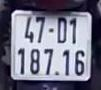1: (16, 45, 28, 77), (69, 15, 78, 46), (61, 47, 70, 77)
4: (23, 13, 35, 46)
6: (72, 46, 87, 78)
7: (42, 46, 55, 75), (35, 14, 45, 47)
8: (29, 47, 42, 76)
D: (55, 15, 67, 43)
